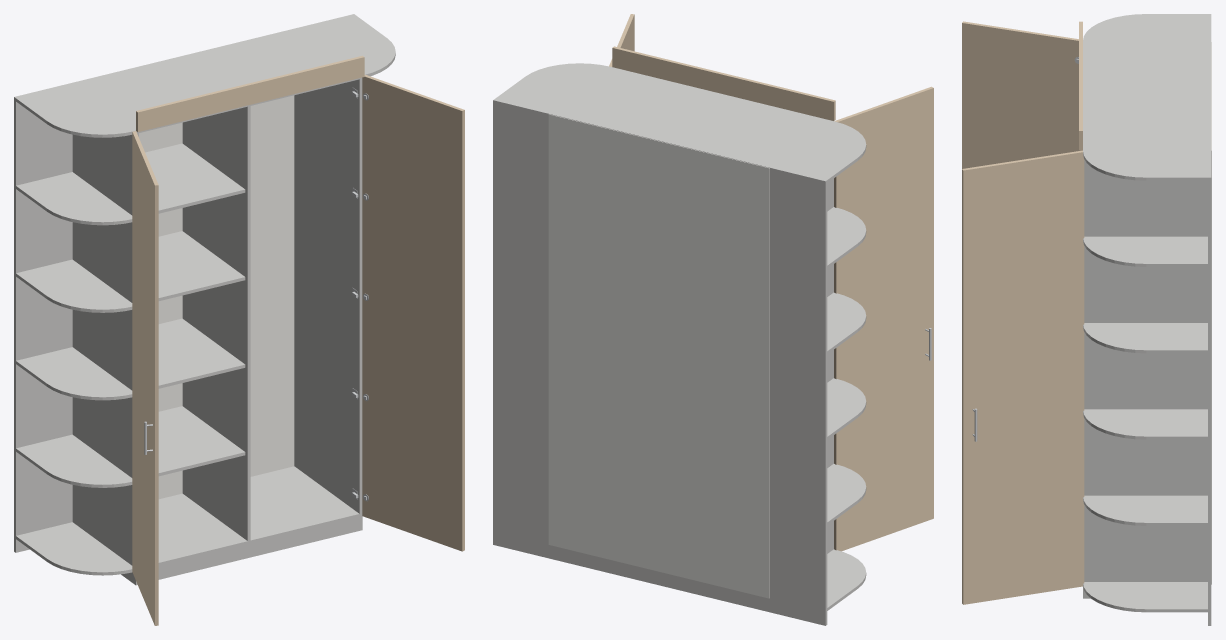
File: wardrobe_cornice_ends_open.glb
3 views of the same model, side by side, from view 1: azimuth 30°, elevation 25°; view 2: azimuth 150°, elevation 25°; view 3: azimuth 270°, elevation 25° (orthographic). The views are drawn at different scales.
Visible parts, largest first — view 1: 14:sections[1].doors.door[1], 2:body.side.right, 30:body.back[1], 7:partition[0], 1:body.side.left, 16:end_unit.left.rear, 13:sections[0].doors.door[1], 3:body.top, 4:body.bottom, 15:body.cornice, 11:sections[0].fill[0].shelf[4], 8:sections[0].fill[0].shelf[1] (+10 smaller); view 2: 30:body.back[1], 13:sections[0].doors.door[1], 16:end_unit.left.rear, 23:end_unit.right.rear, 3:body.top, 15:body.cornice, 22:end_unit.left.top, 6:body.plinth.back, 29:end_unit.right.top, 1:body.side.left, 17:end_unit.left.bottom, 19:end_unit.left.shelf[2] (+3 smaller); view 3: 14:sections[1].doors.door[1], 2:body.side.right, 13:sections[0].doors.door[1], 3:body.top, 28:end_unit.right.shelf[4], 25:end_unit.right.shelf[1], 29:end_unit.right.top, 26:end_unit.right.shelf[2], 27:end_unit.right.shelf[3], 24:end_unit.right.bottom, 22:end_unit.left.top, 23:end_unit.right.rear (+2 smaller).
Part boxes in pixels (bbox=[...]): 14:sections[1].doors.door[1]: bbox=[362, 75, 464, 551]; 2:body.side.right: bbox=[294, 28, 362, 530]; 30:body.back[1]: bbox=[139, 95, 294, 499]; 7:partition[0]: bbox=[182, 106, 250, 540]; 1:body.side.left: bbox=[71, 82, 138, 585]; 16:end_unit.left.rear: bbox=[14, 83, 72, 552]; 13:sections[0].doors.door[1]: bbox=[132, 131, 158, 625]; 3:body.top: bbox=[74, 28, 359, 132]; 4:body.bottom: bbox=[158, 466, 359, 565]; 15:body.cornice: bbox=[136, 55, 364, 131]; 11:sections[0].fill[0].shelf[4]: bbox=[145, 143, 245, 213]; 8:sections[0].fill[0].shelf[1]: bbox=[158, 406, 245, 476]; 30:body.back[1]: bbox=[548, 114, 769, 598]; 13:sections[0].doors.door[1]: bbox=[834, 86, 933, 551]; 16:end_unit.left.rear: bbox=[770, 166, 827, 625]; 23:end_unit.right.rear: bbox=[493, 99, 549, 558]; 3:body.top: bbox=[551, 68, 830, 167]; 15:body.cornice: bbox=[612, 46, 835, 120]; 22:end_unit.left.top: bbox=[772, 121, 866, 182]; 6:body.plinth.back: bbox=[551, 545, 767, 611]; 29:end_unit.right.top: bbox=[495, 63, 611, 112]; 1:body.side.left: bbox=[767, 120, 833, 612]; 17:end_unit.left.bottom: bbox=[827, 549, 866, 610]; 19:end_unit.left.shelf[2]: bbox=[827, 378, 866, 439]; 14:sections[1].doors.door[1]: bbox=[962, 150, 1084, 604]; 2:body.side.right: bbox=[1083, 149, 1211, 598]; 13:sections[0].doors.door[1]: bbox=[962, 21, 1082, 168]; 3:body.top: bbox=[1083, 42, 1211, 148]; 28:end_unit.right.shelf[4]: bbox=[1083, 236, 1207, 266]; 25:end_unit.right.shelf[1]: bbox=[1083, 495, 1207, 525]; 29:end_unit.right.top: bbox=[1083, 150, 1207, 180]; 26:end_unit.right.shelf[2]: bbox=[1083, 409, 1207, 439]; 27:end_unit.right.shelf[3]: bbox=[1083, 323, 1207, 353]; 24:end_unit.right.bottom: bbox=[1083, 582, 1207, 612]; 22:end_unit.left.top: bbox=[1083, 14, 1207, 41]; 23:end_unit.right.rear: bbox=[1208, 150, 1211, 625].
Size of the model in its own units: 1.8 by 2.4 by 1.16.
